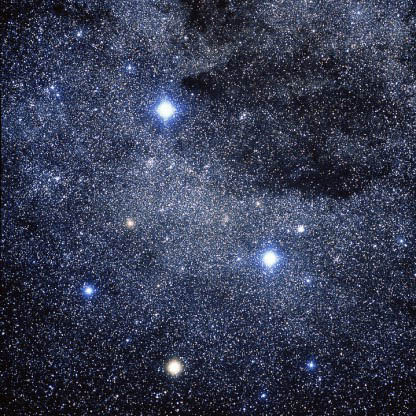Southern Cross: (135, 84, 195, 138), (154, 339, 200, 389), (246, 235, 289, 277), (69, 273, 105, 308)
